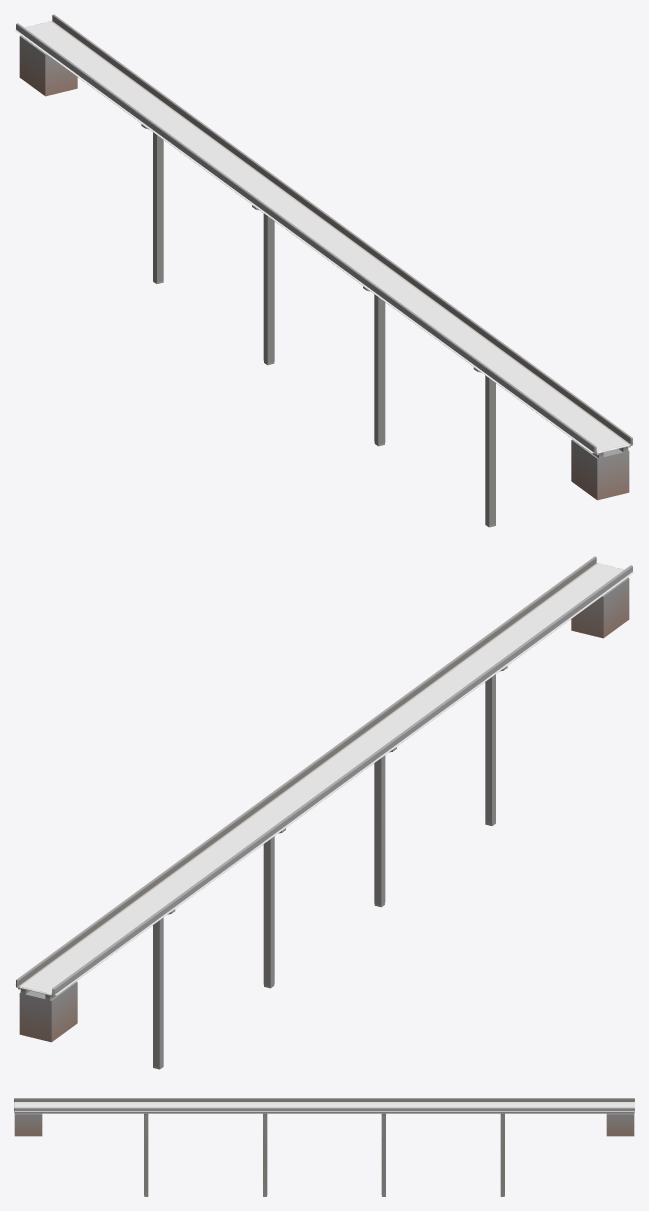
The model's file is ut_bridge_big.dae.
3 views of the same model, one above another, from view 1: azimuth 30°, elevation 25°; view 2: azimuth 150°, elevation 25°; view 3: azimuth 270°, elevation 25° (orthographic). The views are drawn at different scales.
Visible parts, largest first — view 1: ut_bridge_big_a30, Colmesh_ut_bridge_big-1, ut_bridge_big_a100, ut_bridge_big_a1800; view 2: ut_bridge_big_a30, Colmesh_ut_bridge_big-1, ut_bridge_big_a1800, ut_bridge_big_a100; view 3: Colmesh_ut_bridge_big-1, ut_bridge_big_a30, ut_bridge_big_a100, ut_bridge_big_a1800.
Part boxes in pixels (bbox=[...]): ut_bridge_big_a30: bbox=[14, 21, 634, 453]; Colmesh_ut_bridge_big-1: bbox=[16, 14, 632, 527]; ut_bridge_big_a100: bbox=[52, 16, 630, 525]; ut_bridge_big_a1800: bbox=[19, 21, 630, 526]; ut_bridge_big_a30: bbox=[14, 563, 634, 995]; Colmesh_ut_bridge_big-1: bbox=[16, 556, 632, 1069]; ut_bridge_big_a1800: bbox=[18, 563, 629, 1069]; ut_bridge_big_a100: bbox=[18, 558, 596, 1067]; Colmesh_ut_bridge_big-1: bbox=[14, 1098, 634, 1196]; ut_bridge_big_a30: bbox=[14, 1102, 634, 1111]; ut_bridge_big_a100: bbox=[14, 1099, 634, 1195]; ut_bridge_big_a1800: bbox=[14, 1102, 634, 1114].
Bounding box in the file's own units: 6.25 × 146 × 24.14.
